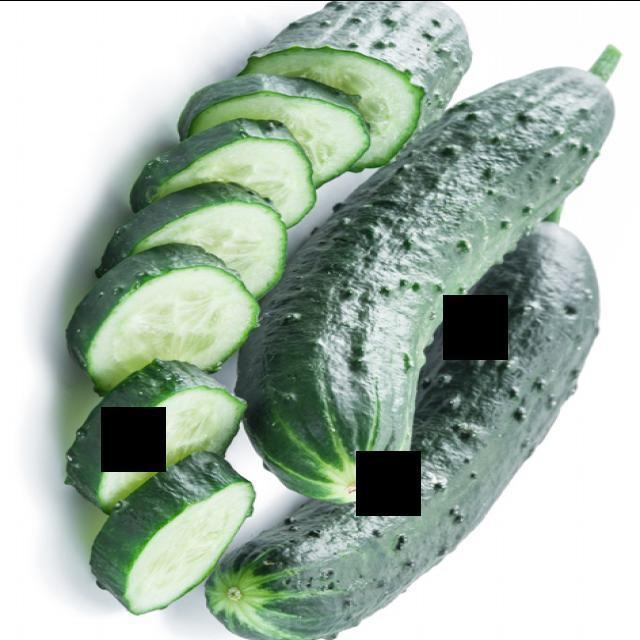cucumber: (19, 0, 640, 640), (38, 79, 390, 626), (24, 361, 272, 543), (48, 238, 274, 412), (96, 182, 318, 348), (65, 456, 269, 636), (143, 113, 344, 287)
